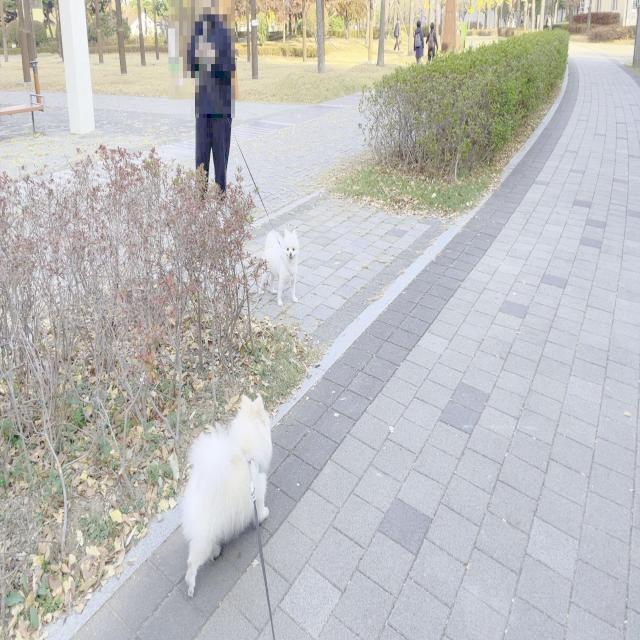Dog: (180, 392, 273, 601)
Leashed_Dog: (210, 100, 300, 308)
